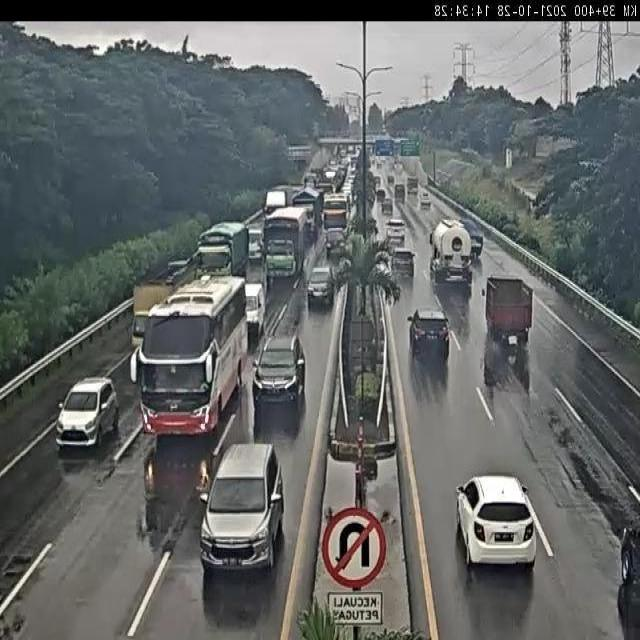Bus: (126, 286, 249, 462)
Car: (199, 442, 284, 573), (455, 467, 549, 573), (252, 329, 307, 419), (56, 374, 121, 448), (408, 308, 451, 363), (306, 264, 336, 309), (391, 247, 416, 280), (325, 228, 346, 256), (386, 218, 406, 246), (334, 146, 348, 163), (381, 197, 393, 216), (420, 190, 431, 209), (376, 187, 385, 202), (387, 173, 395, 184), (356, 147, 362, 158)
Truck: (473, 277, 546, 353), (428, 208, 486, 290), (261, 202, 309, 280)
